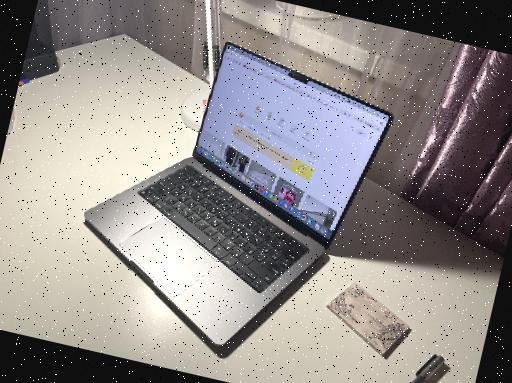yandex: (192, 52, 396, 229)
